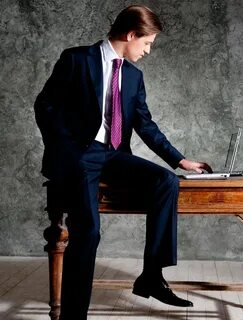awake: (32, 3, 197, 320)
